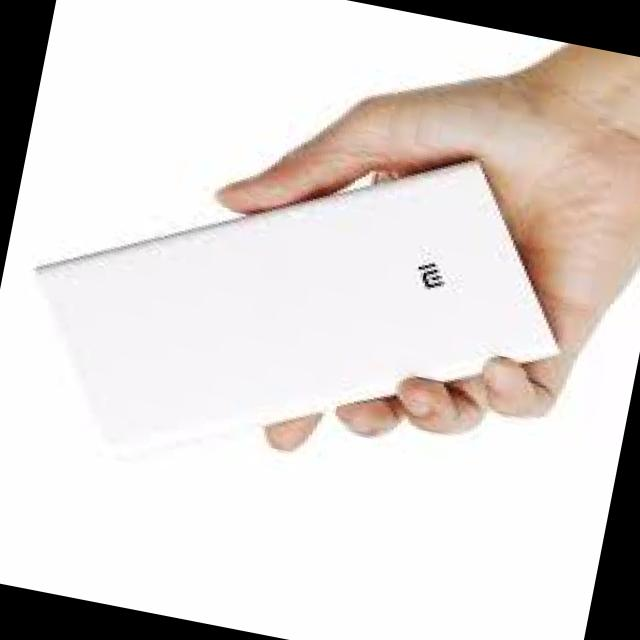portable-charger: (4, 77, 602, 533)
